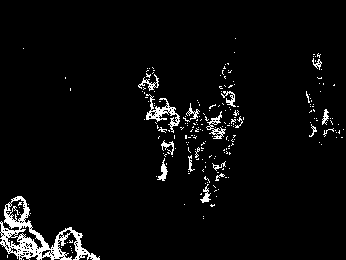person: (1, 194, 53, 260), (200, 104, 230, 209), (147, 96, 180, 182), (48, 225, 103, 260), (182, 99, 204, 173)
